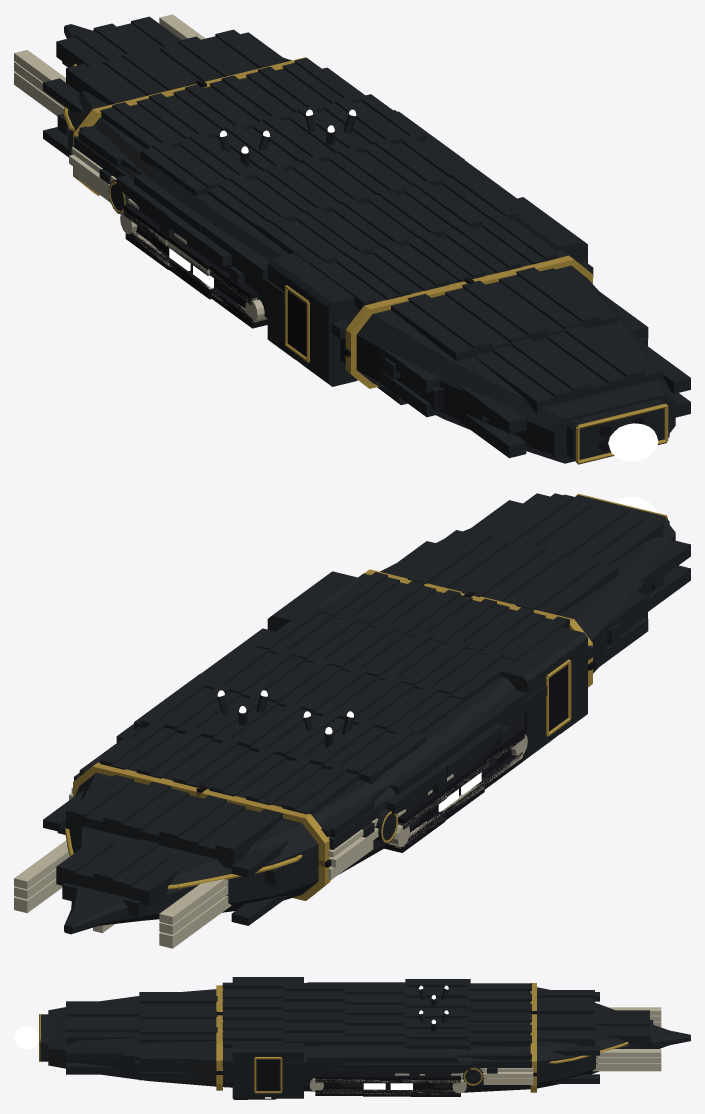
The picture shows the model from 3 angles, top to bottom: view 1: azimuth 30°, elevation 25°; view 2: azimuth 150°, elevation 25°; view 3: azimuth 270°, elevation 25°; orthographic projection. The views are drawn at different scales.
Parts seen in each view (by area): view 1: RIMWARD_HULL, RIMWARD_ENGINE_GLOW, RIMWARD_EMISSIVE; view 2: RIMWARD_HULL, RIMWARD_EMISSIVE; view 3: RIMWARD_HULL, RIMWARD_ENGINE_GLOW, RIMWARD_EMISSIVE.
Part boxes in pixels (x1,y1,x2,y2): RIMWARD_HULL: (14, 14, 690, 464); RIMWARD_ENGINE_GLOW: (608, 423, 658, 461); RIMWARD_EMISSIVE: (169, 109, 356, 365); RIMWARD_HULL: (14, 493, 690, 948); RIMWARD_EMISSIVE: (217, 690, 560, 811); RIMWARD_HULL: (39, 977, 690, 1099); RIMWARD_ENGINE_GLOW: (14, 1026, 38, 1049); RIMWARD_EMISSIVE: (265, 985, 448, 1098).
Size of the model in its own units: 2.93 by 1.41 by 10.43.
